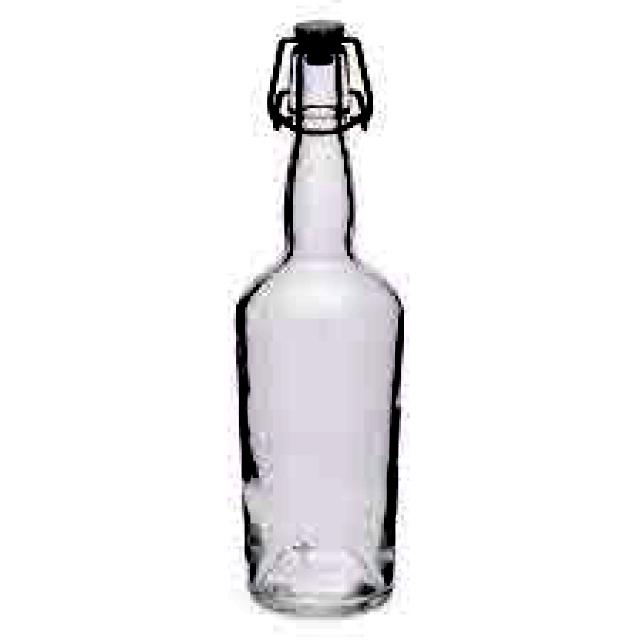Glass: (223, 14, 415, 631)
